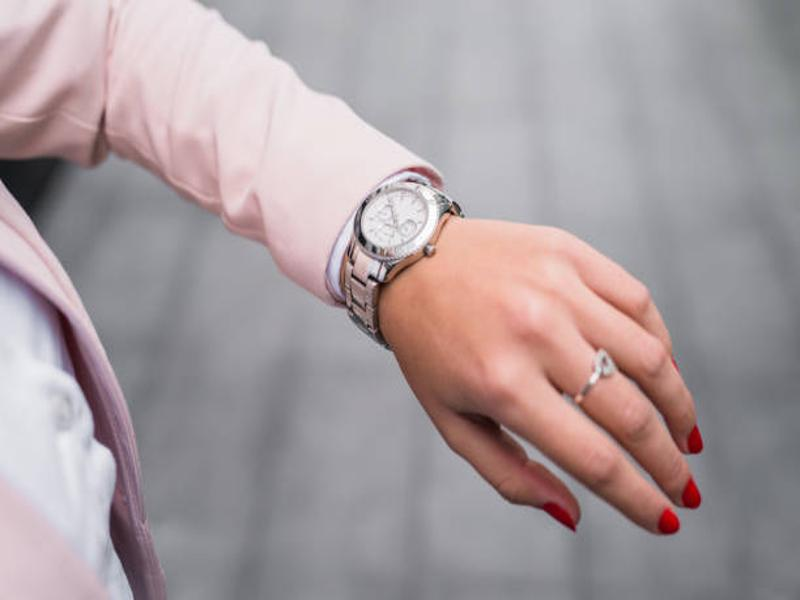watch: (341, 178, 466, 350)
